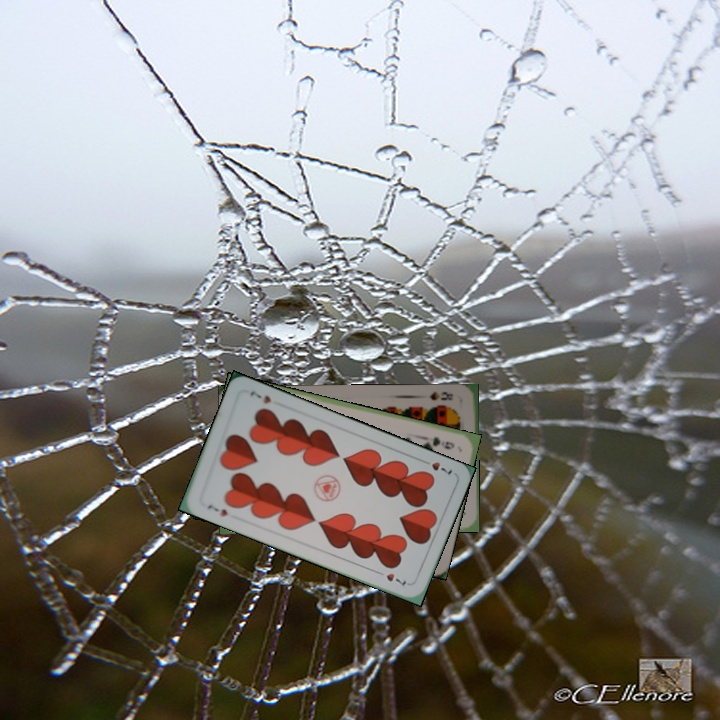G9: (428, 433, 457, 451)
H7: (417, 455, 455, 477), (204, 500, 230, 519)
S8: (425, 388, 456, 403)
